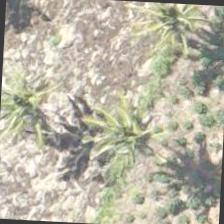Kelapa_Sawit: (86, 85, 182, 180), (0, 58, 71, 152), (129, 0, 222, 62)
